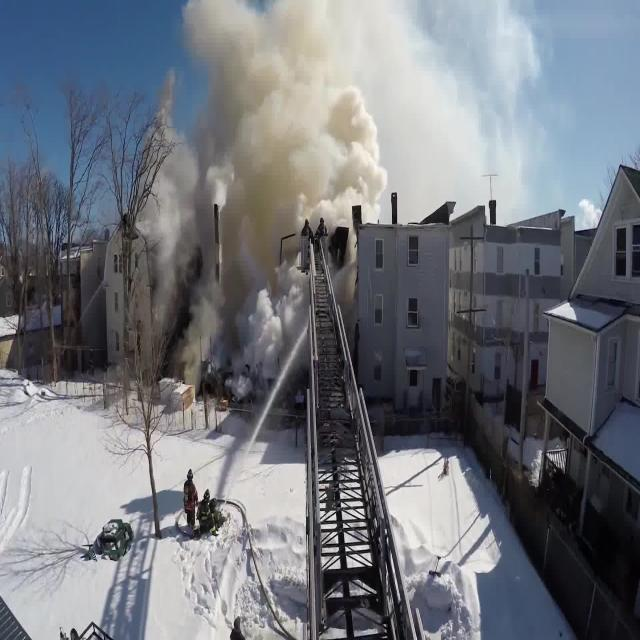Smoke: (117, 0, 532, 385)
